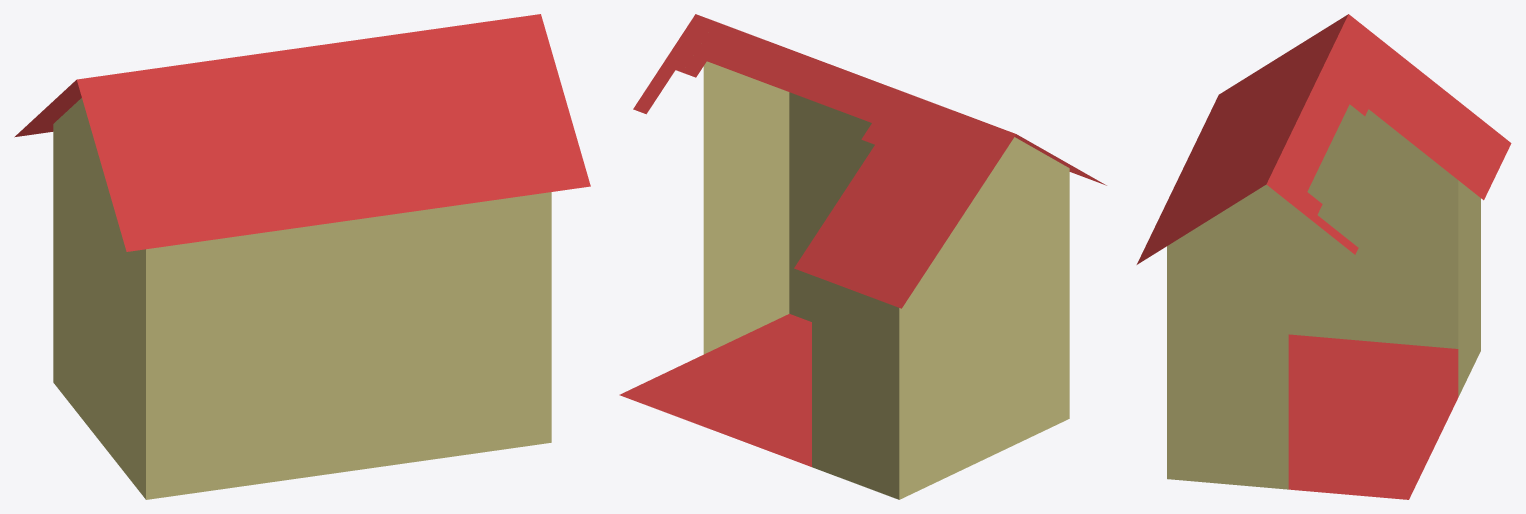
The picture shows the model from 3 angles, left to right: view 1: azimuth 30°, elevation 25°; view 2: azimuth 150°, elevation 25°; view 3: azimuth 270°, elevation 25°; orthographic projection. The views are drawn at different scales.
Size of the model in its own units: 12.93 by 10.83 by 10.01.
